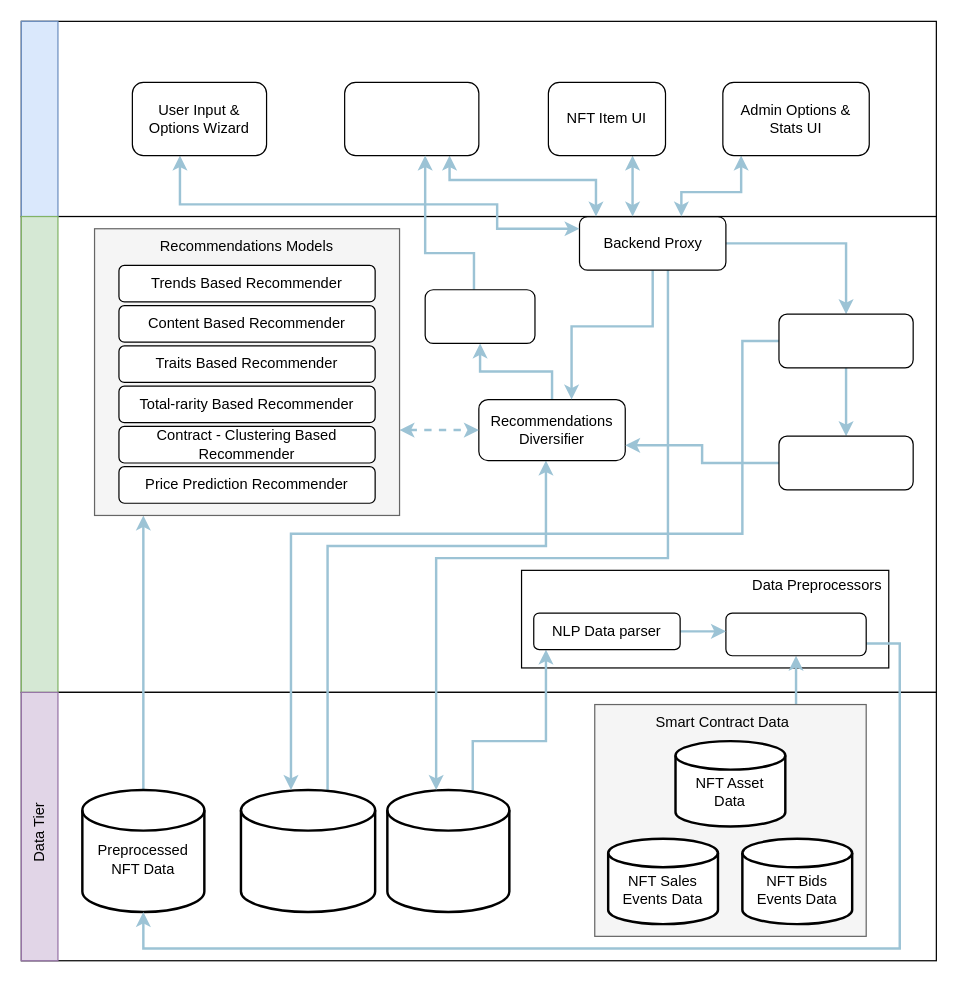
Some shapes in this 958 by 982 pixel diagram are drawn without their labels. The shapes that lost their labels are listed below. From the top down, each one's centre as x and y in pixels, then its label:
At pixel 39 118: "Presentation Tier".
At pixel 411 118: "Recommendations Feed UI".
At pixel 479 316: "Progress Polling API".
At pixel 845 340: "User Satisfaction Monitor".
At pixel 39 453: "Logic Tier".
At pixel 845 462: "Recommendations Evaluator".
At pixel 795 634: "NFT Data Preprocessor".
At pixel 307 850: "Annonymous past user-bias preference Data".
At pixel 448 850: "Social Trends Data".
